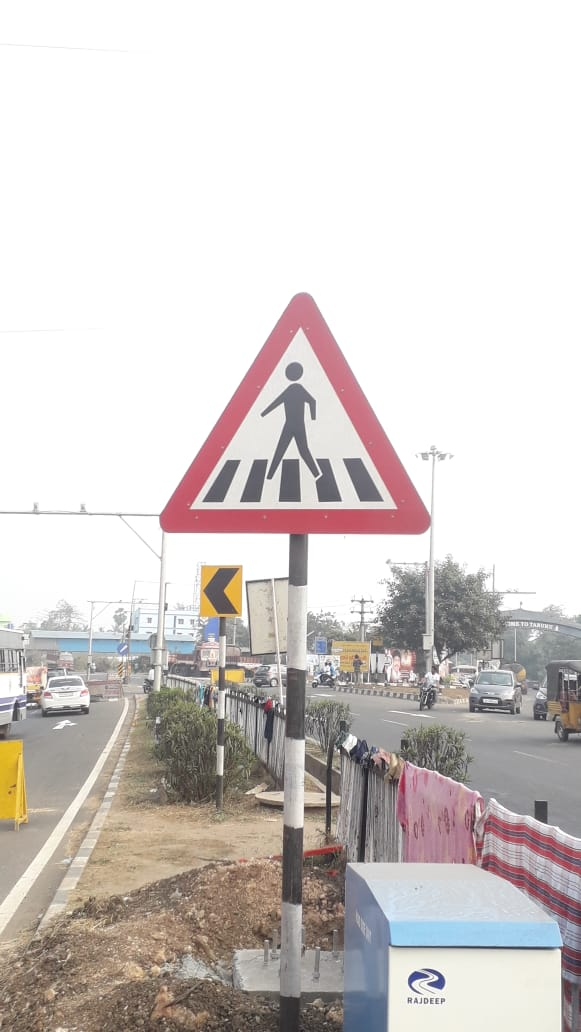pedestrian crossing: (163, 268, 449, 563)
